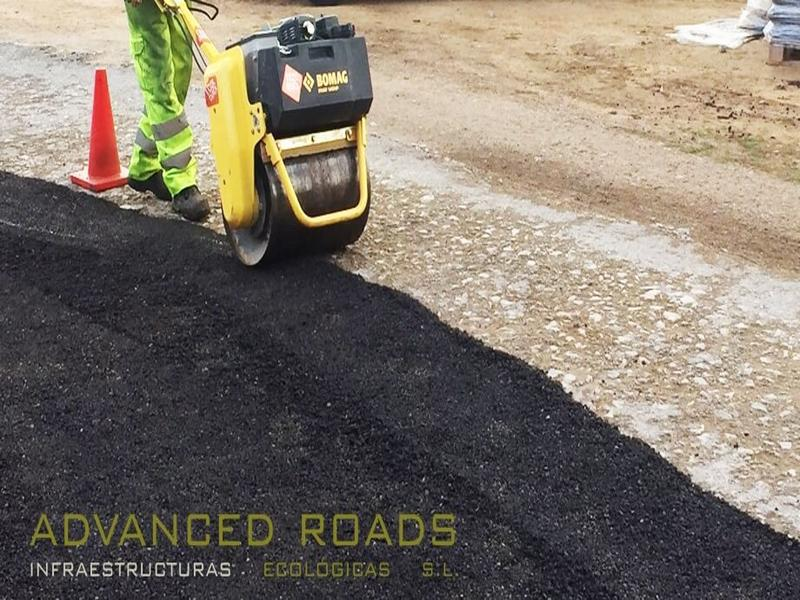Cone: (70, 69, 131, 194)
